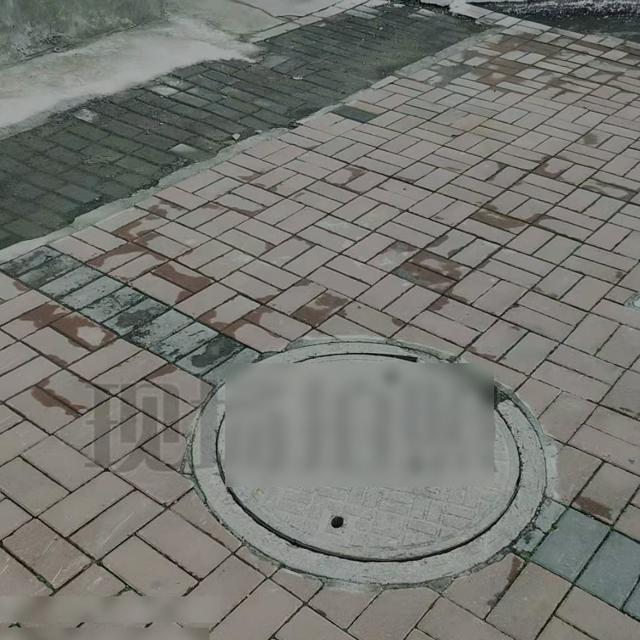circle: (184, 341, 552, 593)
